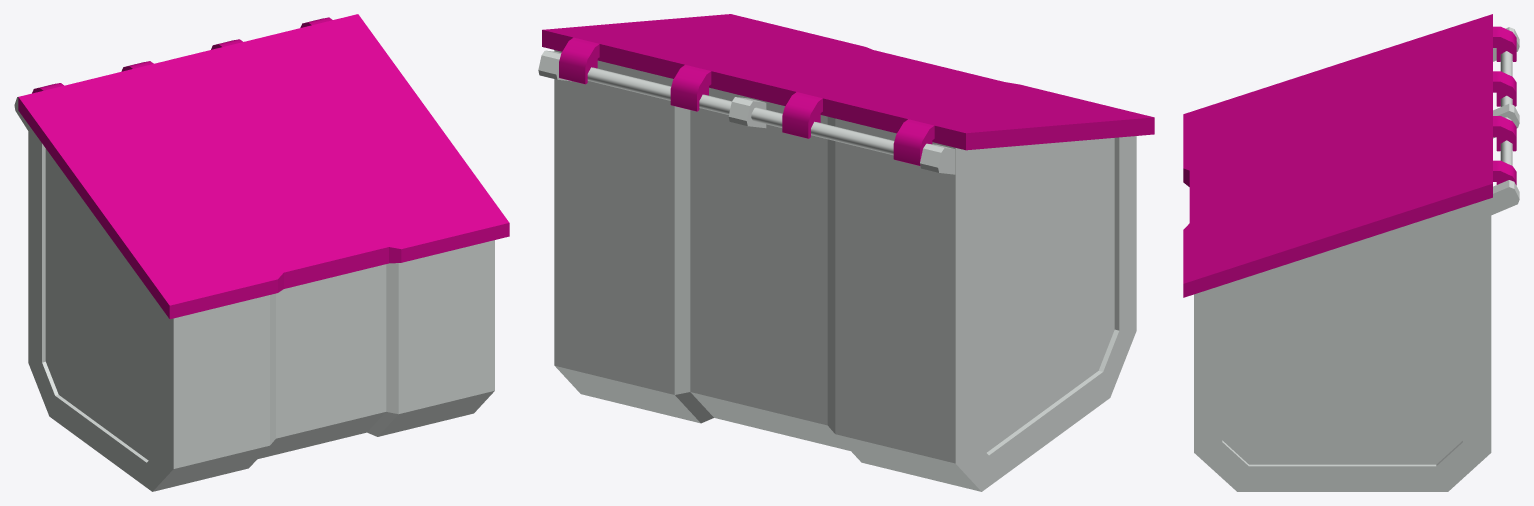
3 renders of one model, left to right at view 1: azimuth 30°, elevation 25°; view 2: azimuth 150°, elevation 25°; view 3: azimuth 270°, elevation 25°, orthographic. The views are drawn at different scales.
Visible parts, largest first — view 1: G:\FFXIV-MapTools\exports\x6t1\bg\ex5\01_xkt_x6\twn\x6t1\bgp (×2); view 2: G:\FFXIV-MapTools\exports\x6t1\bg\ex5\01_xkt_x6\twn\x6t1\bgp (×2); view 3: G:\FFXIV-MapTools\exports\x6t1\bg\ex5\01_xkt_x6\twn\x6t1\bgp (×2).
Part boxes in pixels (bbox=[...]): G:\FFXIV-MapTools\exports\x6t1\bg\ex5\01_xkt_x6\twn\x6t1\bgp (×2): bbox=[14, 14, 509, 491]; G:\FFXIV-MapTools\exports\x6t1\bg\ex5\01_xkt_x6\twn\x6t1\bgp (×2): bbox=[538, 14, 1154, 491]; G:\FFXIV-MapTools\exports\x6t1\bg\ex5\01_xkt_x6\twn\x6t1\bgp (×2): bbox=[1183, 14, 1519, 491].
Size of the model in its own units: 2.11 by 1.81 by 1.77.
